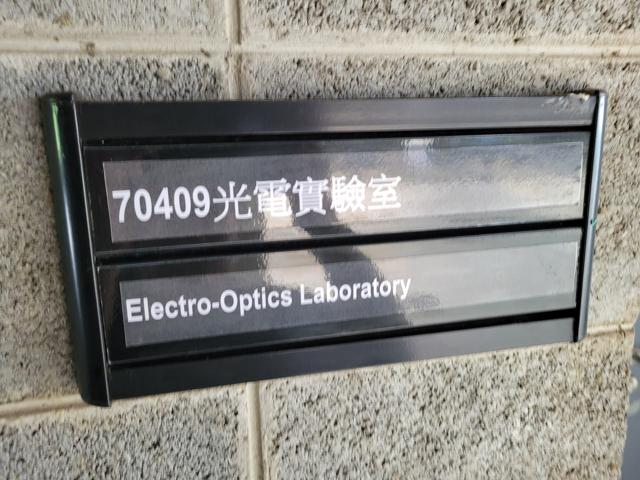doorplate: (28, 78, 619, 412)
